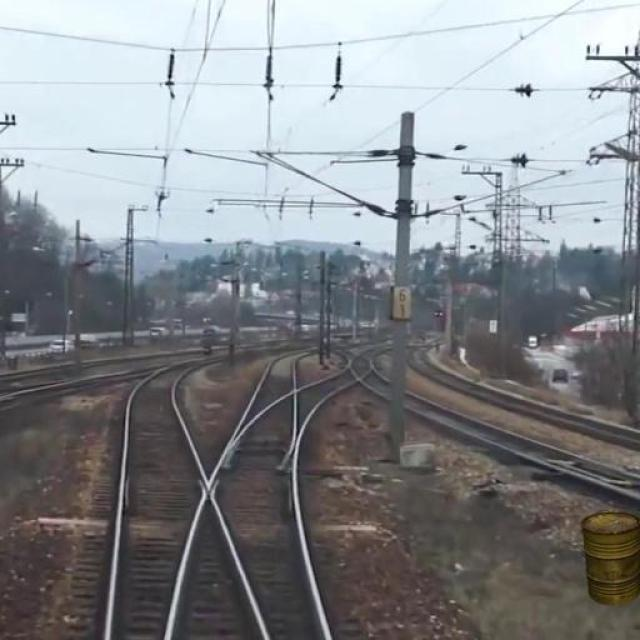Other_objects: (580, 500, 640, 612)
